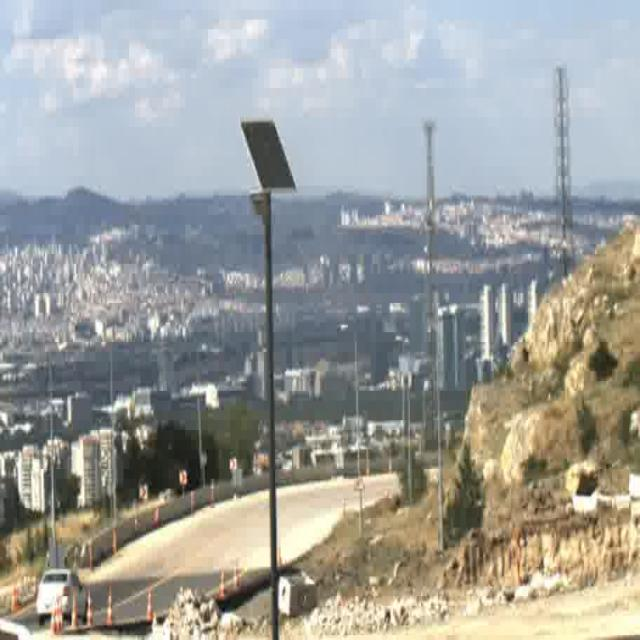Car: (36, 566, 88, 621), (1, 619, 35, 640)
